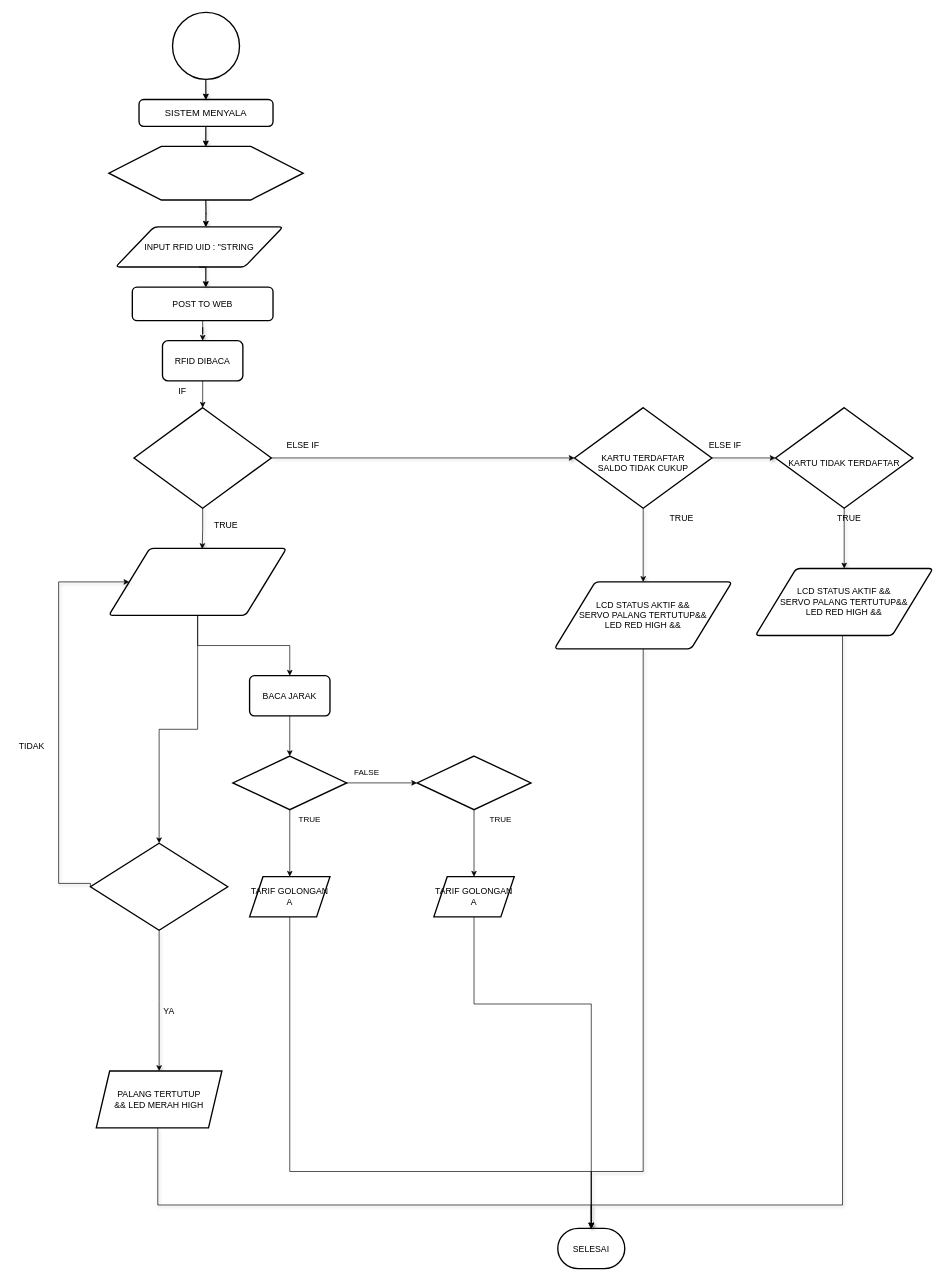
Some shapes in this 945 by 1280 pixel diagram are drawn without their labels. Each missing label, with the centre of its shape:
INISIALISASI VARIABEL DAN MENGHUBUNGKANKE WEB: point 206,172
INPUT INFRARED=0: point 158,886
Jarak<=11 && Jarak >=8: point 289,782
Jarak<=6 && Jarak >=1: point 473,782
KARTU TERDAFTAR SALDO CUKUP: point 202,458
LCD STATUS AKTIF && SERVOPALANG TERBUKA && LED HIJAU HIGH && INPUT INFRARED: point 197,581
MULAI: point 206,45
